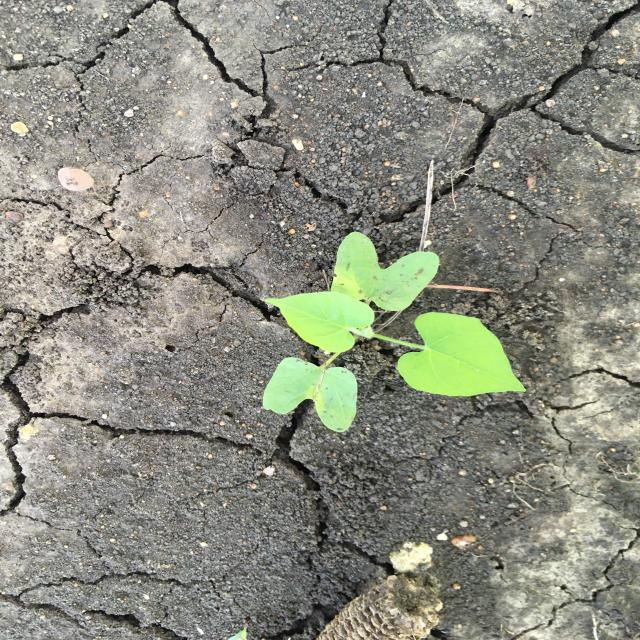MorningGlory: (260, 230, 528, 433)
